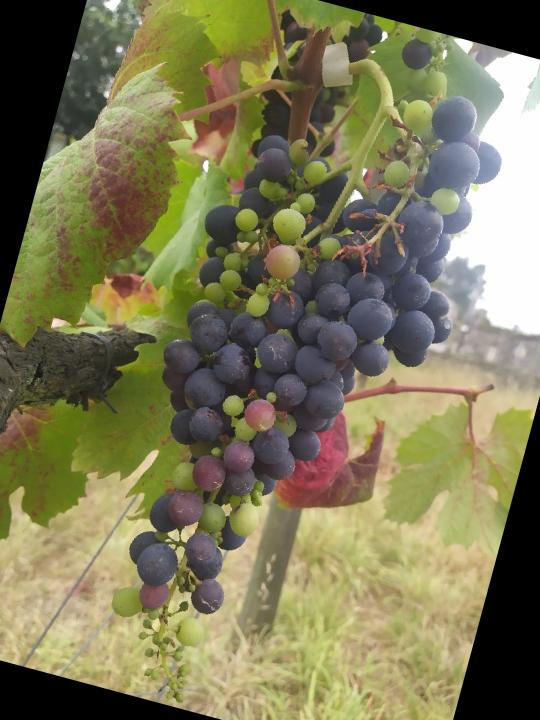grape: (76, 38, 516, 720)
